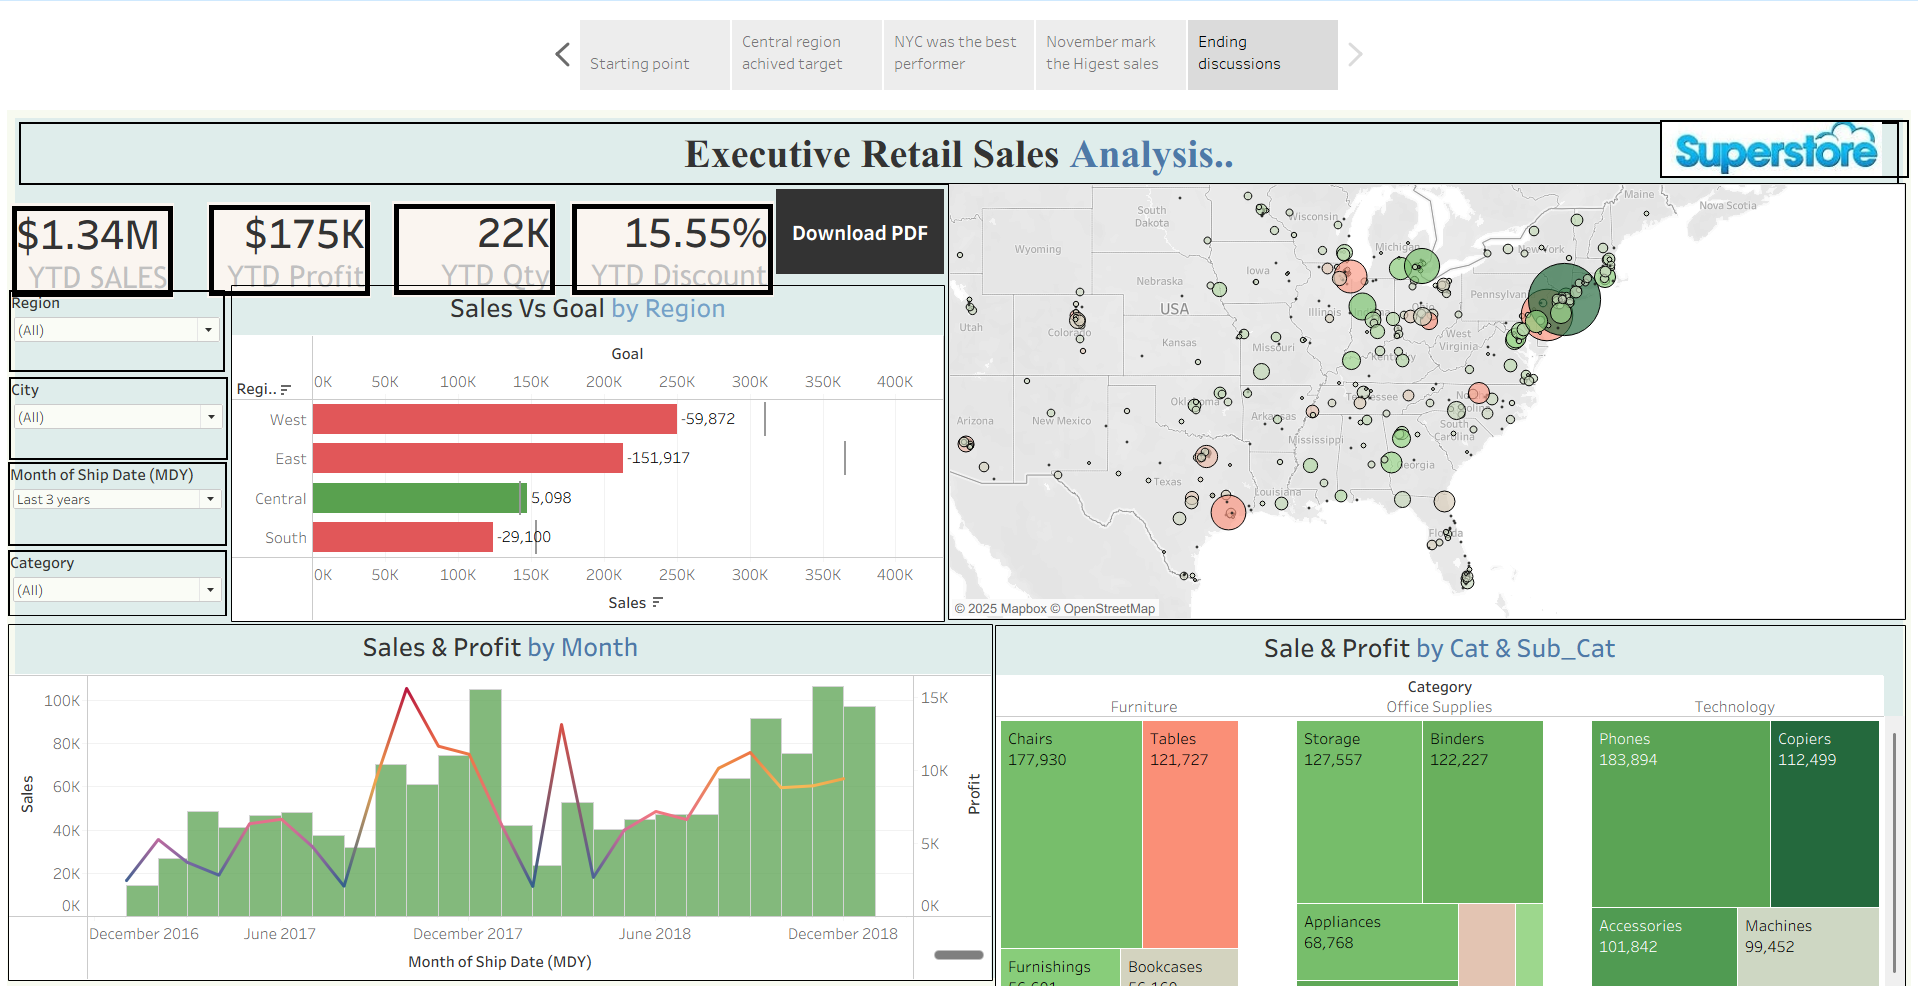

What the dashboard file says about the page in this screenshot:
{"tool":"tableau","page":{"name":"Dashboard 1","canvas":[1000,1000],"units":"permille","ordinal":0},"visuals":[{"type":"worksheet","title":"Qty","mark":"Automatic","box":[202.1,7.5,120.1,339.6]},{"type":"worksheet","title":"discount","mark":"Automatic","box":[295.8,7.5,118.9,283.4]},{"type":"worksheet","title":"Profit","mark":"Automatic","box":[104.9,8.7,121.3,226]},{"type":"worksheet","title":"Sales","mark":"Automatic","box":[1.8,10,107.8,229.7]},{"type":"title","box":[4.7,10,990.6,88.6]},{"type":"image","param":"Image/download.jpeg","box":[868.2,11.2,130.6,66.2]},{"type":"worksheet","title":"City wise","mark":"Automatic","box":[494.4,83.7,503.2,499.4]},{"type":"dashboard-object","box":[404.1,89.9,88.5,97.4]},{"type":"worksheet","title":"Sales Vs Goal","mark":"Automatic","rows":["Region"],"cols":["Sales","Goal"],"box":[117.8,199.8,374.9,384.5]},{"type":"filter","title":"Sales Vs Goal","param":"[federated.1a60av20npun2j1cgu62n0ei90px].[none:Region:nk]","box":[1.2,206,113.7,93.6]},{"type":"filter","title":"City wise","param":"[federated.1a60av20npun2j1cgu62n0ei90px].[none:City:nk]","box":[1.2,304.6,114.8,94.9]},{"type":"filter","title":"Time_series","param":"[federated.1a60av20npun2j1cgu62n0ei90px].[tmn:Ship Date (MDY):qk]","box":[0.6,402,114.8,96.1]},{"type":"filter","title":"Tree_map","param":"[federated.1a60av20npun2j1cgu62n0ei90px].[none:Category:nk]","box":[0.6,501.9,114.8,76.2]},{"type":"worksheet","title":"Time_series","mark":"Automatic","rows":["Sales","Profit"],"cols":["Ship Date (MDY)"],"box":[0.6,586.8,517.3,407]}]}

Visuals, with their boxes on the dashboard's canvas, which has no fixed pixel size, in thousandths of its width and height (x1, y1, x2, y2). These are canvas units, not pixel positions in the 1918x994 screenshot, which may show the page scaled, cropped or inside an application window:
"Qty" worksheet: (202,8,322,347)
"discount" worksheet: (296,8,415,291)
"Profit" worksheet: (105,9,226,235)
"Sales" worksheet: (2,10,110,240)
title: (5,10,995,99)
image: (868,11,999,77)
"City wise" worksheet: (494,84,998,583)
dashboard-object: (404,90,493,187)
"Sales Vs Goal" worksheet: (118,200,493,584)
"Sales Vs Goal" filter: (1,206,115,300)
"City wise" filter: (1,305,116,400)
"Time_series" filter: (1,402,115,498)
"Tree_map" filter: (1,502,115,578)
"Time_series" worksheet: (1,587,518,994)
